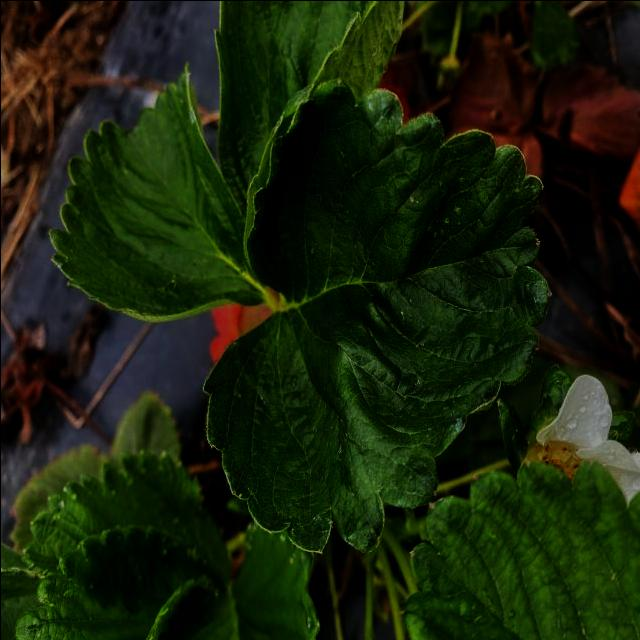flower: (512, 370, 640, 534)
